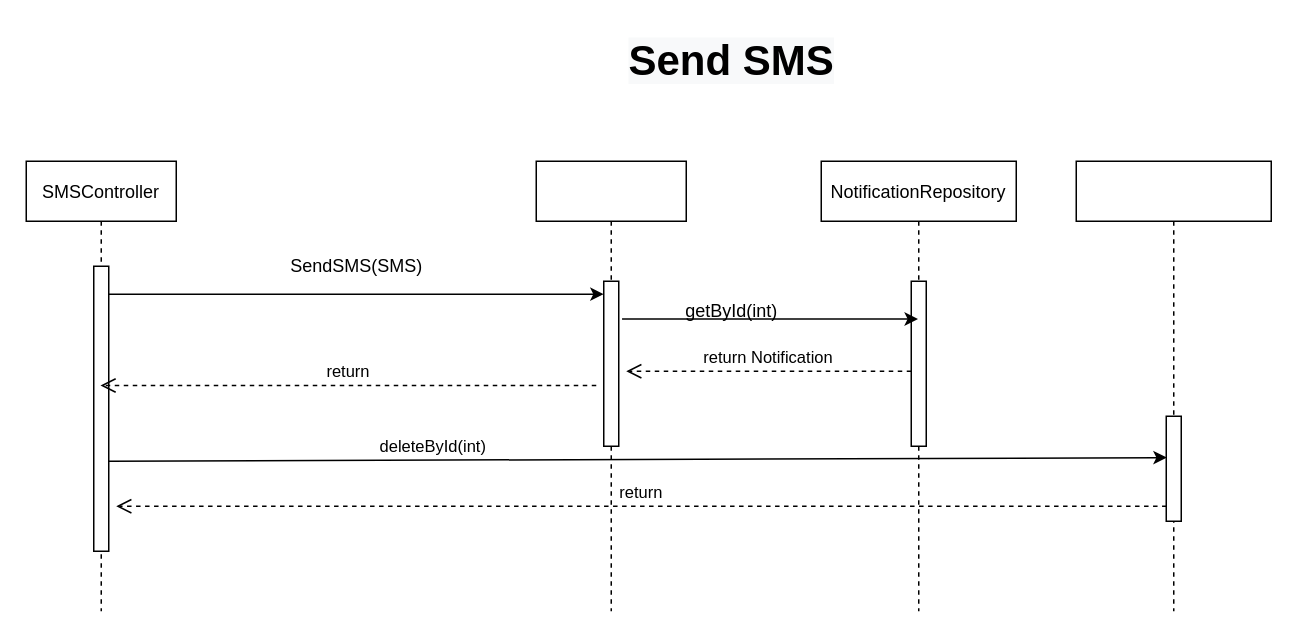
Some shapes in this 1298 by 638 pixel diagram are drawn without their labels. Here are the shapes that lost their labels. From the top down, the box of each, then its label:
(535, 160, 686, 611): SmsSender
(1075, 160, 1271, 611): SMSRepository
